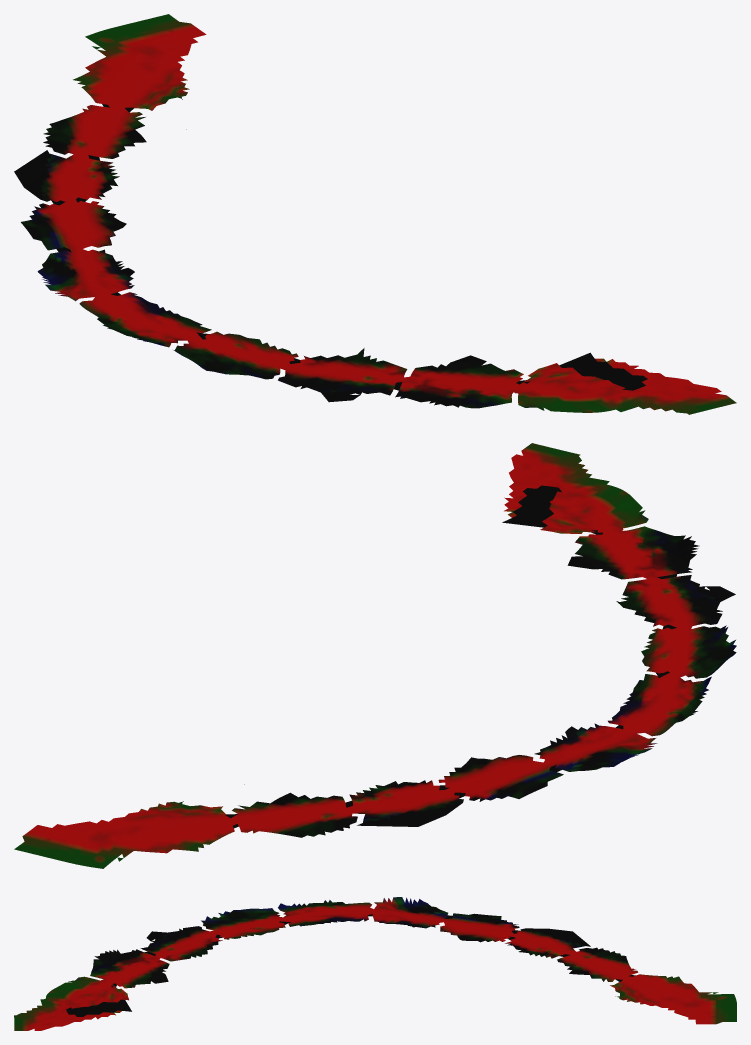
File: nav_top.fbx
The picture shows the model from 3 angles, top to bottom: view 1: azimuth 30°, elevation 25°; view 2: azimuth 150°, elevation 25°; view 3: azimuth 270°, elevation 25°; orthographic projection. The views are drawn at different scales.
Parts seen in each view (by area): view 1: Group5; view 2: Group5; view 3: Group5.
Boxes of the visible parts, x1=… form: Group5: x1=14, y1=14, x2=736, y2=414; Group5: x1=14, y1=443, x2=736, y2=868; Group5: x1=14, y1=897, x2=736, y2=1030.
Size of the model in its own units: 161 by 2.97 by 375.
